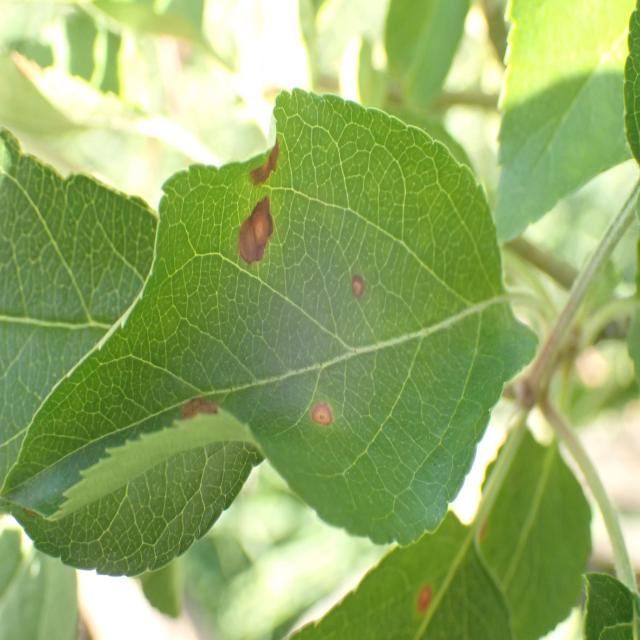Black Rot: (226, 191, 283, 267), (241, 142, 292, 190), (304, 392, 343, 453), (177, 391, 219, 436), (411, 560, 437, 626), (338, 270, 376, 310)
